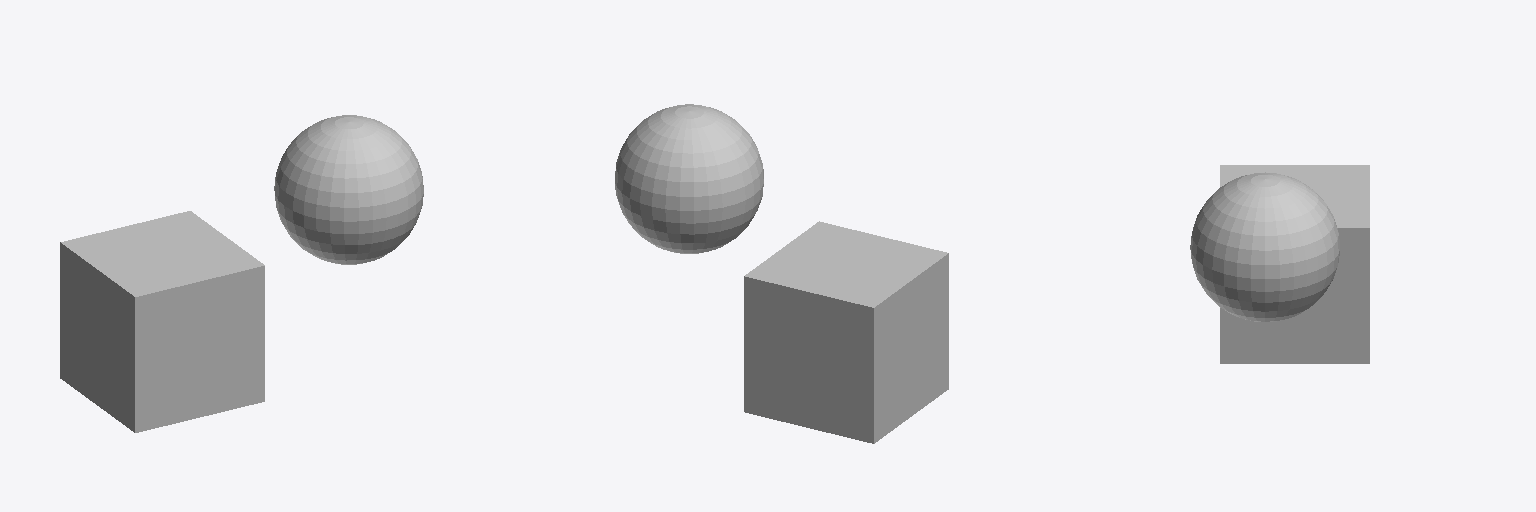
The model's file is testFile1obj.obj.
3 renders of one model, left to right at view 1: azimuth 30°, elevation 25°; view 2: azimuth 150°, elevation 25°; view 3: azimuth 270°, elevation 25°, orthographic.
Visible parts, largest first — view 1: Cube; view 2: Cube; view 3: Cube.
Boxes of the visible parts, x1=… form: Cube: x1=60, y1=115, x2=423, y2=432; Cube: x1=615, y1=104, x2=948, y2=443; Cube: x1=1190, y1=165, x2=1369, y2=363.
Bounding box in the file's own units: 4.64 × 3.48 × 2.39.